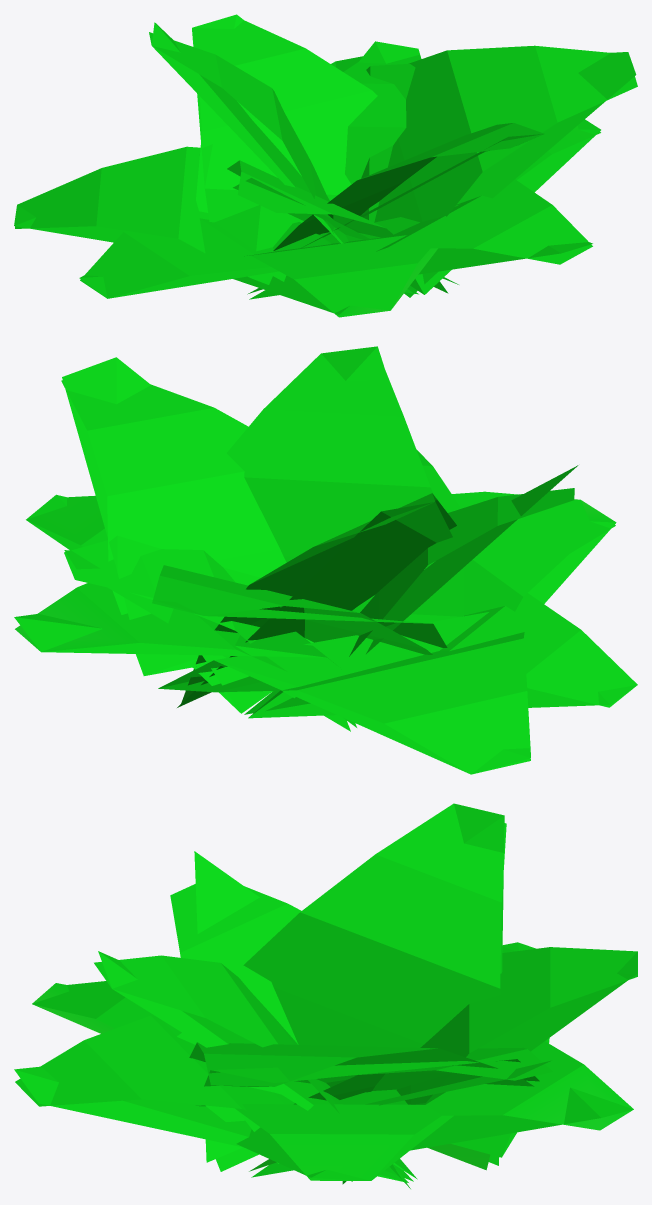
The model's file is Fern.fbx.
3 views of the same model, one above another, from view 1: azimuth 30°, elevation 25°; view 2: azimuth 150°, elevation 25°; view 3: azimuth 270°, elevation 25° (orthographic). The views are drawn at different scales.
Parts seen in each view (by area): view 1: Fern, Fern.001; view 2: Fern, Fern.001; view 3: Fern, Fern.001.
Boxes of the visible parts, x1,y1,x2,y2 form: Fern: (15, 20, 637, 317); Fern.001: (14, 14, 636, 314); Fern: (15, 353, 637, 774); Fern.001: (14, 346, 637, 774); Fern: (15, 803, 637, 1188); Fern.001: (14, 803, 637, 1182).
Bounding box in the file's own units: 407 × 171 × 371.
